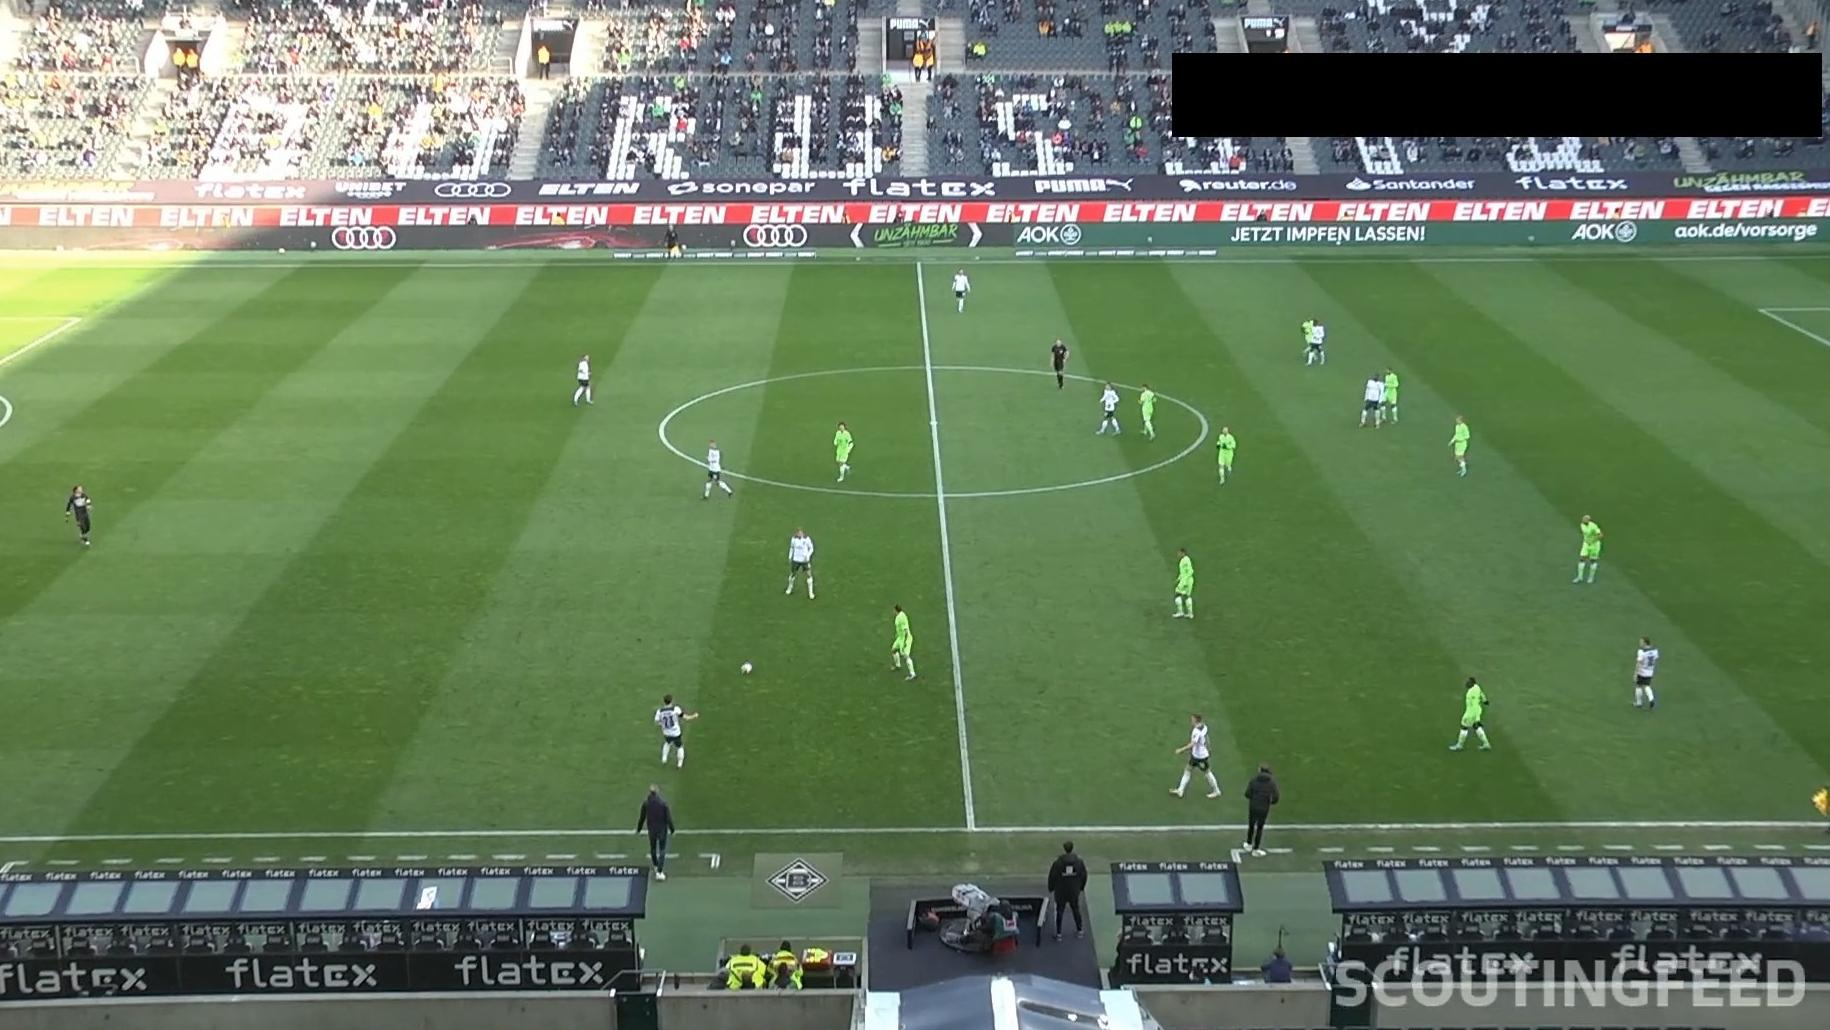ball: (740, 660, 753, 675)
